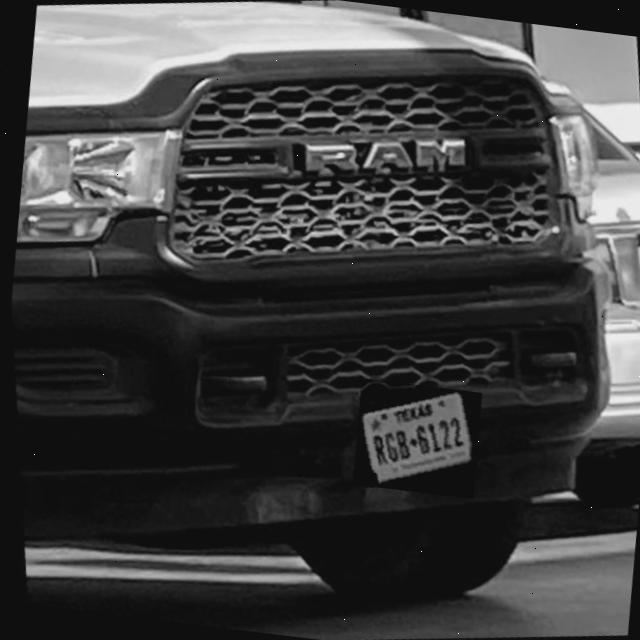LicensePlate: (355, 390, 472, 487)
